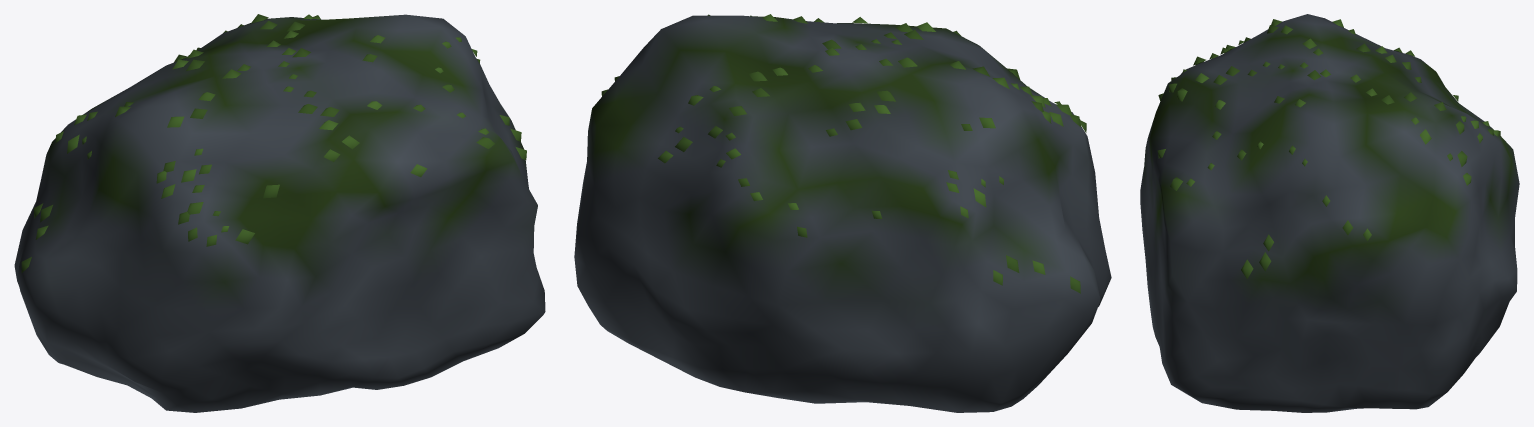
The model's file is boulder.001.glb.
3 renders of one model, left to right at view 1: azimuth 30°, elevation 25°; view 2: azimuth 150°, elevation 25°; view 3: azimuth 270°, elevation 25°, orthographic. The views are drawn at different scales.
Parts seen in each view (by area): view 1: Boulder_Stone.001, Boulder_Moss.001; view 2: Boulder_Stone.001, Boulder_Moss.001; view 3: Boulder_Stone.001, Boulder_Moss.001.
Part boxes in pixels (bbox=[...]): Boulder_Stone.001: bbox=[14, 14, 545, 412]; Boulder_Moss.001: bbox=[21, 14, 526, 272]; Boulder_Stone.001: bbox=[574, 15, 1111, 412]; Boulder_Moss.001: bbox=[601, 14, 1086, 293]; Boulder_Stone.001: bbox=[1140, 14, 1519, 412]; Boulder_Moss.001: bbox=[1157, 19, 1500, 278].
Bounding box in the file's own units: 0.6455 × 0.3764 × 0.4864.
